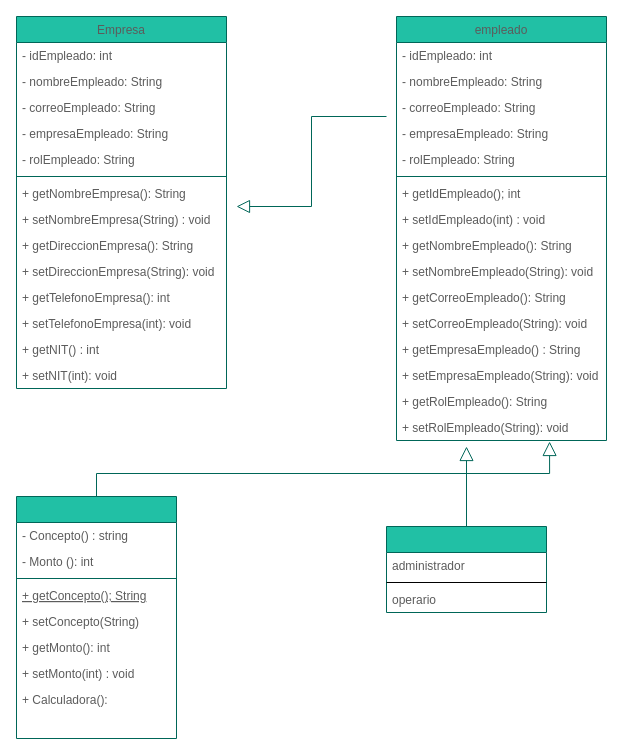
Some shapes in this 623 by 755 pixel diagram are drawn without their labels. The shapes that lost their labels are listed below. From the top down, each one's box as (x1, y1, x2, y2) in pixels, then its label:
(386, 526, 546, 612): Enum_Usuario
(16, 496, 176, 738): Transacciones
